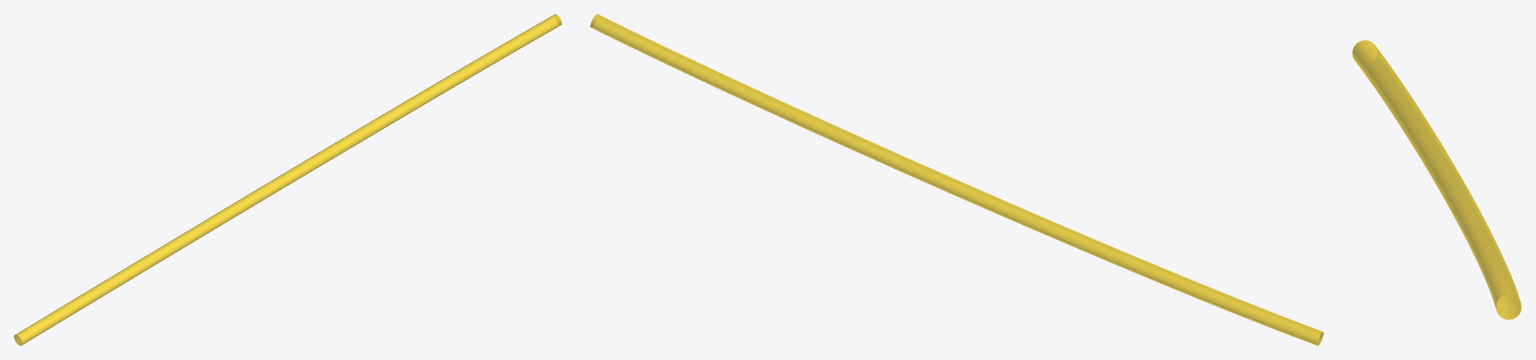
File: Event_402970704_track_34.fbx
The picture shows the model from 3 angles, left to right: view 1: azimuth 30°, elevation 25°; view 2: azimuth 150°, elevation 25°; view 3: azimuth 270°, elevation 25°; orthographic projection. The views are drawn at different scales.
Parts seen in each view (by area): view 1: Model; view 2: Model; view 3: Model.
Boxes of the visible parts, x1,y1,x2,y2 form: Model: (14,14,561,345); Model: (590,14,1323,345); Model: (1352,40,1521,319).
Bounding box in the file's own units: 2.09 × 0.5688 × 0.2646.
